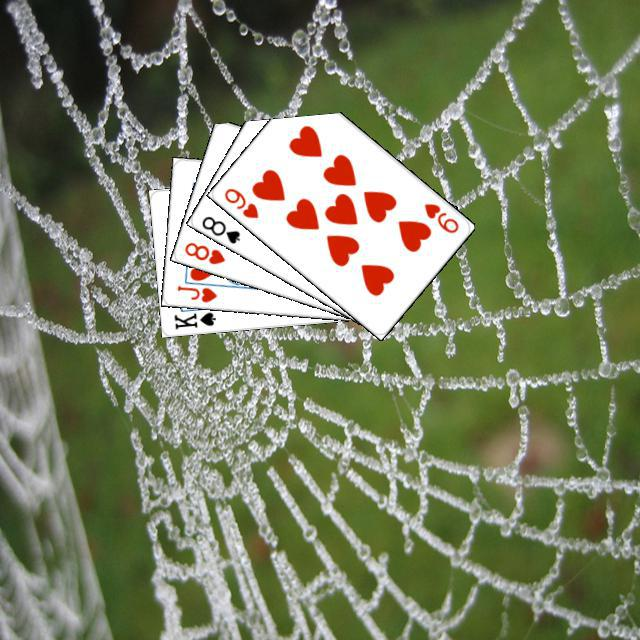8h: (179, 237, 227, 266)
8s: (197, 211, 242, 246)
9h: (219, 183, 260, 220), (419, 198, 460, 235)
Jh: (172, 281, 219, 304)
Ks: (169, 307, 217, 331)
